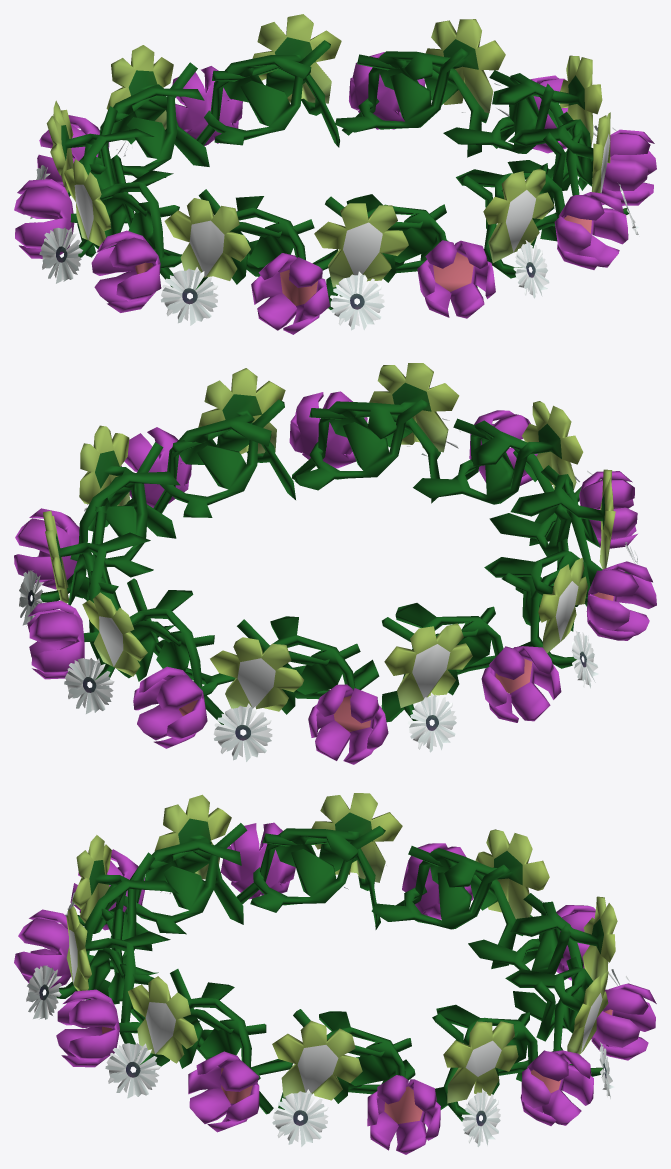
The model's file is outfit_flower_crown.glb.
3 renders of one model, top to bottom at view 1: azimuth 30°, elevation 25°; view 2: azimuth 150°, elevation 25°; view 3: azimuth 270°, elevation 25°, orthographic. The views are drawn at different scales.
Parts seen in each view (by area): view 1: outfit_flower_crown; view 2: outfit_flower_crown; view 3: outfit_flower_crown.
Part boxes in pixels (<box>): outfit_flower_crown: <box>14,14,656,334</box>; outfit_flower_crown: <box>14,363,656,764</box>; outfit_flower_crown: <box>14,793,656,1154</box>.
Bounding box in the file's own units: 1.02 × 0.3003 × 1.06.
1 material, 1 textured.
